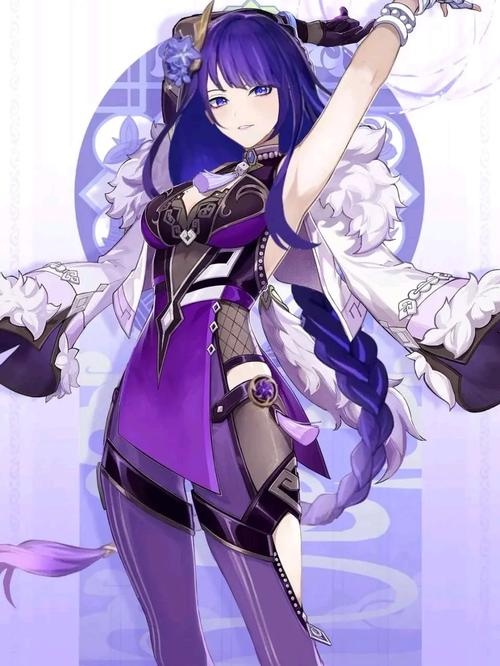夜兰: (94, 4, 482, 666)
